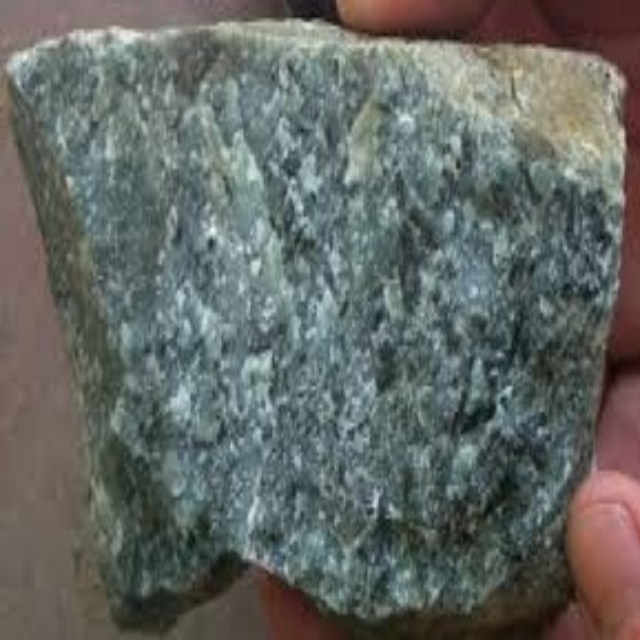obstacle: (0, 22, 622, 633)
